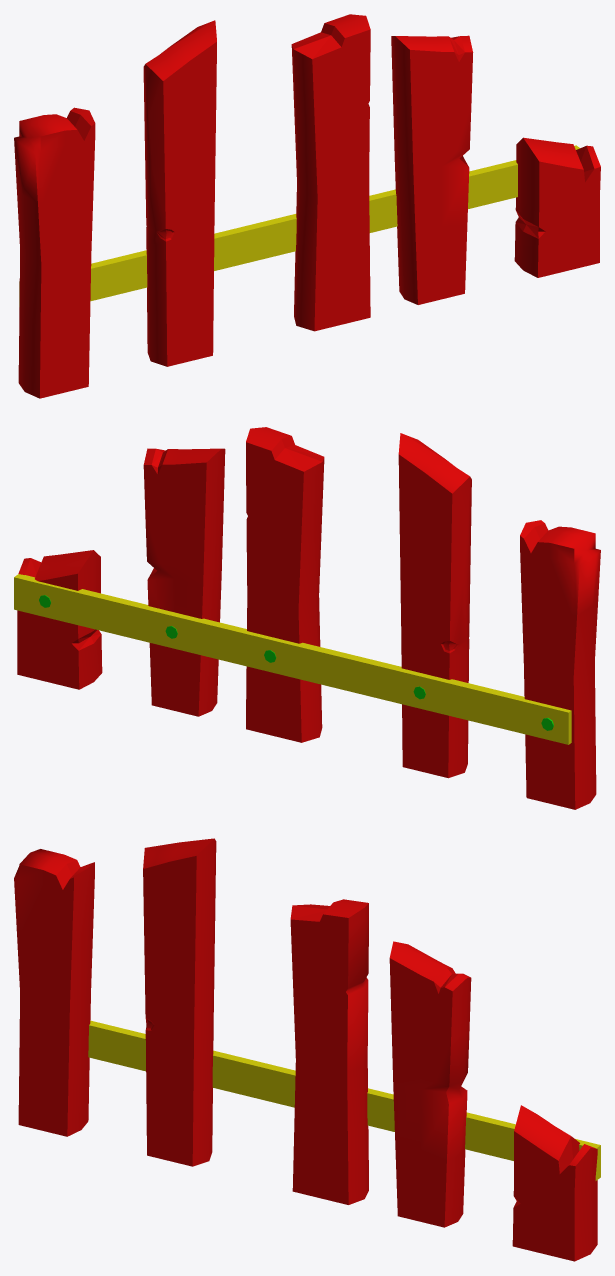
File: 307_Fence_MD.fbx
3 views of the same model, one above another, from view 1: azimuth 30°, elevation 25°; view 2: azimuth 150°, elevation 25°; view 3: azimuth 330°, elevation 25° (orthographic).
Parts seen in each view (by area): view 1: Box001; view 2: Box001; view 3: Box001.
Part boxes in pixels (bbox=[...]): Box001: bbox=[14, 14, 600, 398]; Box001: bbox=[14, 427, 600, 809]; Box001: bbox=[14, 838, 600, 1261].
Bounding box in the file's own units: 199 × 108 × 15.47.
